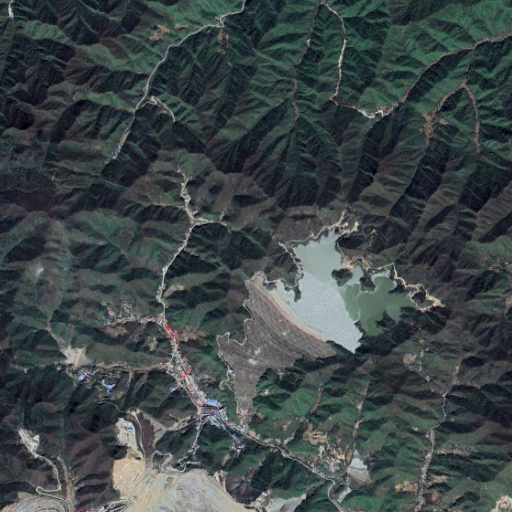tp: (220, 222, 423, 420)
